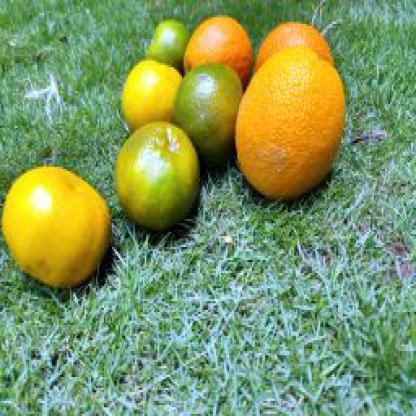orange: (233, 44, 358, 202), (0, 164, 112, 294), (254, 22, 341, 82), (180, 13, 250, 85), (120, 56, 182, 130)
